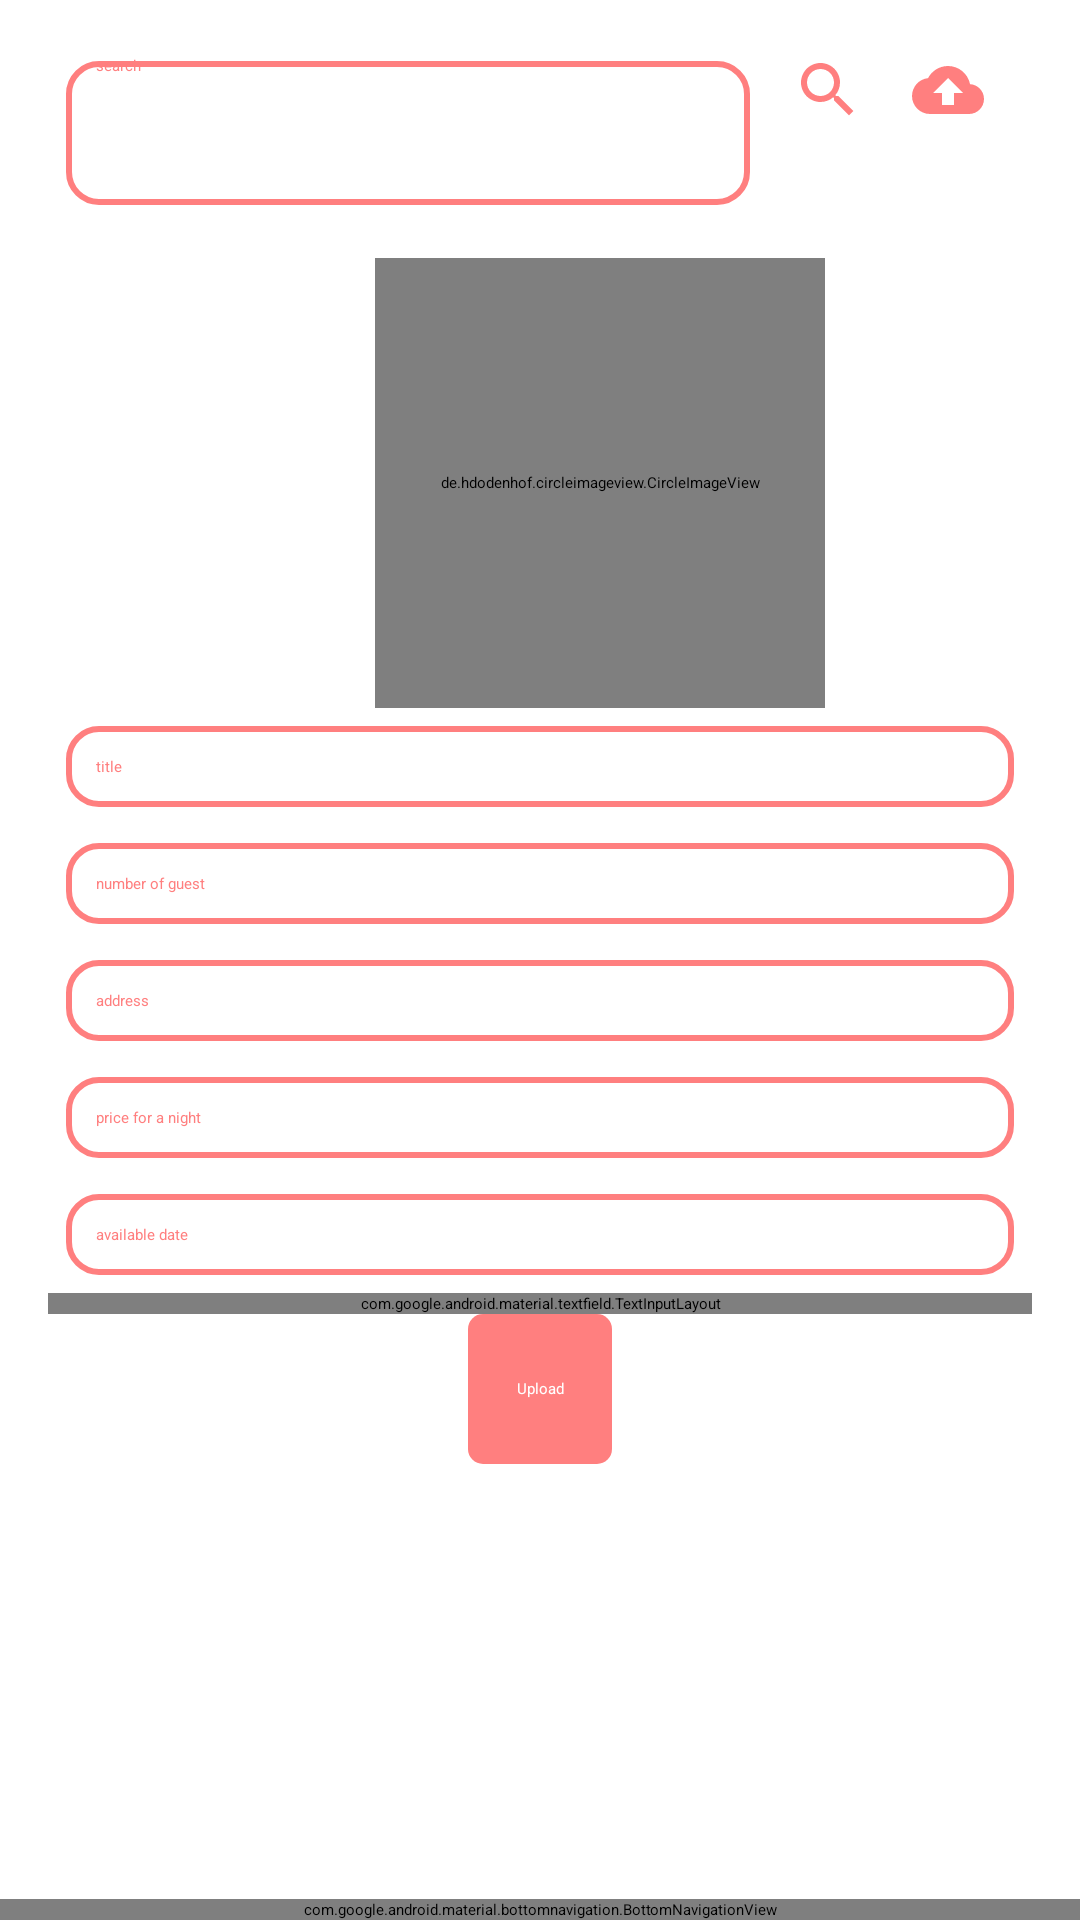

Screen size 1080x1920. Icon name, then its center in pixels as (x=x, y=y):
cloud upload: (x=948, y=90)
